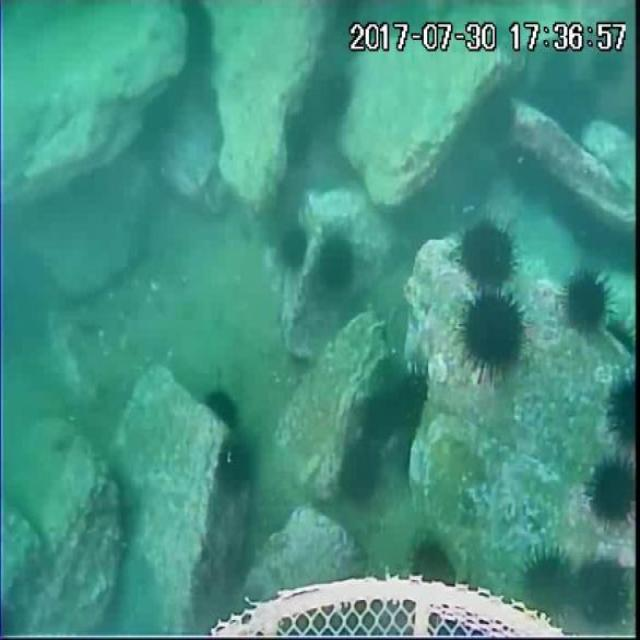echinus: (454, 287, 531, 376), (572, 558, 634, 634), (520, 546, 580, 618), (586, 454, 640, 534), (461, 221, 521, 292), (211, 433, 262, 499), (562, 268, 610, 337), (406, 534, 458, 594), (336, 444, 384, 505), (302, 62, 348, 122), (315, 232, 356, 299), (359, 388, 403, 448), (510, 144, 556, 200), (605, 371, 640, 444), (478, 86, 516, 150), (591, 36, 637, 87), (555, 78, 596, 130), (534, 47, 576, 96), (282, 105, 312, 173), (276, 220, 312, 273), (547, 180, 588, 224), (206, 387, 242, 432), (574, 212, 608, 253), (610, 312, 632, 364)
